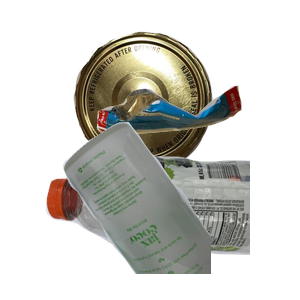glass: (60, 120, 300, 300)
metal: (71, 29, 276, 193)
plastic: (43, 152, 283, 300)
trash: (94, 83, 300, 210)
